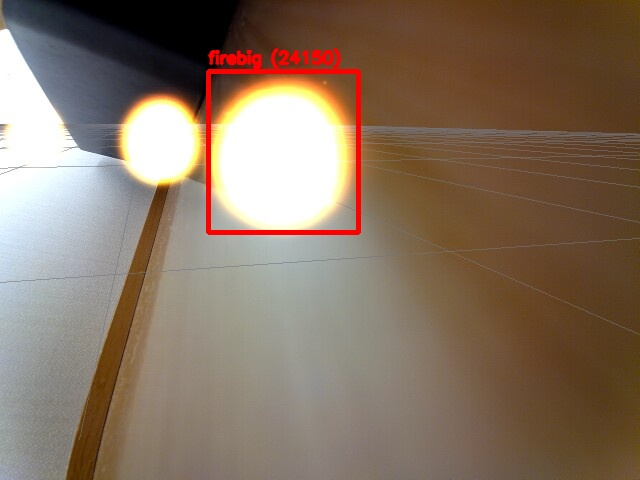firebig: (208, 71, 358, 232)
